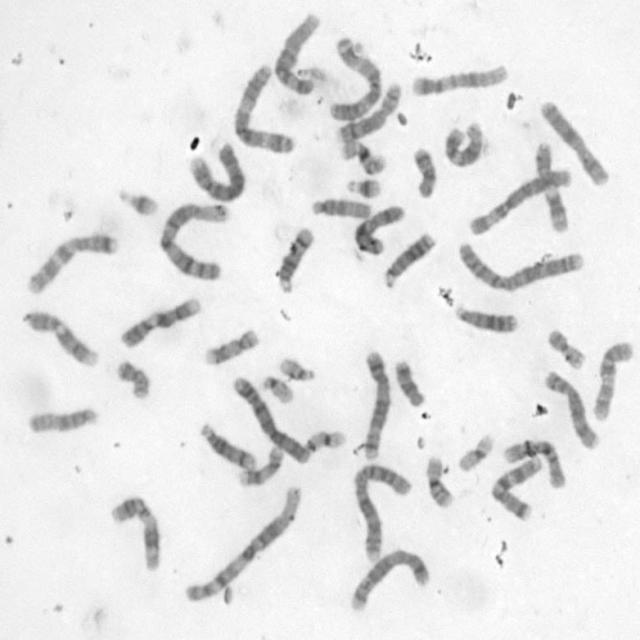A1: (181, 480, 304, 605), (156, 198, 232, 281)
A2: (453, 235, 586, 294), (349, 458, 414, 564)
A3: (229, 60, 297, 155), (326, 34, 383, 122)
B4: (229, 371, 311, 467), (185, 139, 247, 203)
B5: (346, 544, 432, 614), (358, 348, 392, 459)
C10: (588, 337, 634, 423), (500, 435, 568, 489)
C11: (106, 489, 164, 574), (531, 137, 571, 233)
C12: (408, 61, 511, 97), (441, 119, 485, 169)
C6: (464, 165, 573, 238), (270, 9, 322, 96)
C7: (24, 228, 120, 297), (487, 454, 543, 521)
C8: (541, 367, 601, 451), (333, 79, 404, 144)
C9: (21, 307, 101, 368), (118, 293, 203, 349)
D13: (380, 228, 437, 288), (450, 300, 519, 335)
D14: (196, 420, 258, 471), (272, 223, 316, 294)
D15: (24, 404, 100, 437), (308, 194, 373, 221)
E16: (338, 136, 389, 176), (423, 453, 455, 509)
E17: (200, 325, 261, 368), (234, 442, 285, 488)
E18: (393, 357, 426, 408), (410, 144, 439, 200)
F19: (454, 431, 496, 472), (302, 426, 348, 454)
F20: (545, 324, 587, 370), (114, 356, 152, 400)
G21: (115, 184, 162, 219), (343, 174, 384, 200)
G22: (276, 353, 317, 383), (258, 372, 295, 405)
X: (538, 96, 611, 188), (350, 200, 407, 256)
